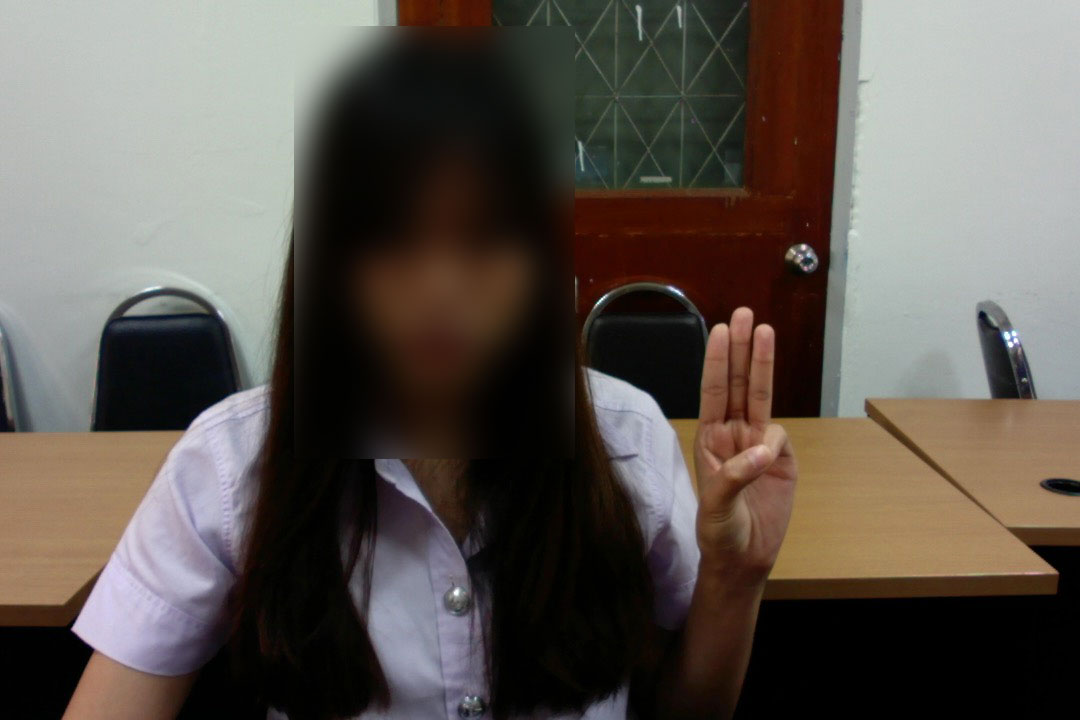wor: (676, 304, 807, 591)
